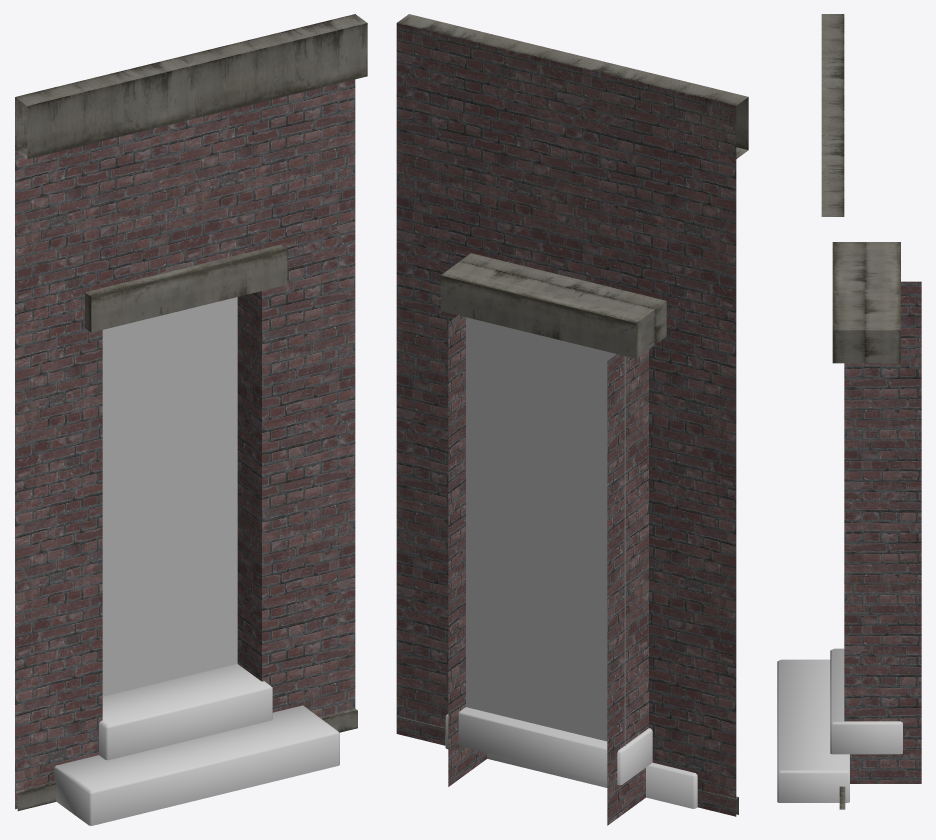
The model's file is Wall_D_Brick_Door_D_2x.FBX.
3 renders of one model, left to right at view 1: azimuth 30°, elevation 25°; view 2: azimuth 150°, elevation 25°; view 3: azimuth 270°, elevation 25°, orthographic. The views are drawn at different scales.
Parts seen in each view (by area): view 1: Wall_D_Brick_Door_D_2x; view 2: Wall_D_Brick_Door_D_2x; view 3: Wall_D_Brick_Door_D_2x.
Part boxes in pixels (box(x1,y1,x2,y2)): Wall_D_Brick_Door_D_2x: box(14, 14, 367, 825); Wall_D_Brick_Door_D_2x: box(396, 14, 748, 825); Wall_D_Brick_Door_D_2x: box(777, 14, 921, 809).
Bounding box in the file's own units: 200 × 400 × 79.49.
